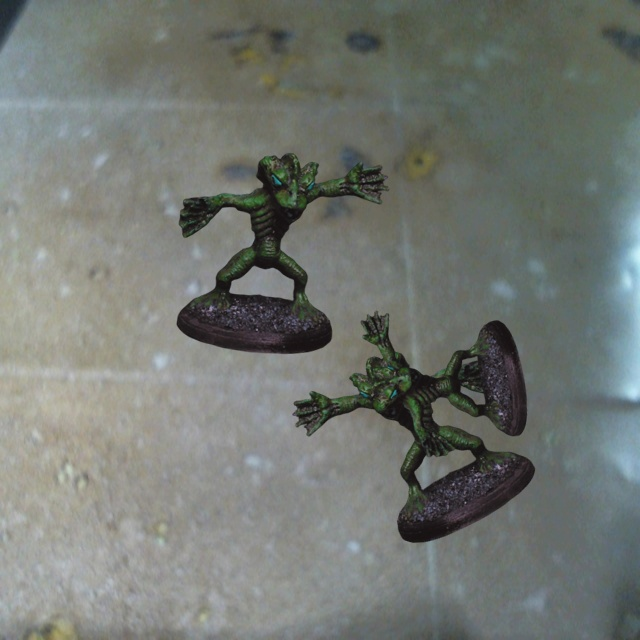pieza_juego: (292, 351, 534, 542), (176, 153, 389, 353), (360, 311, 526, 456)
